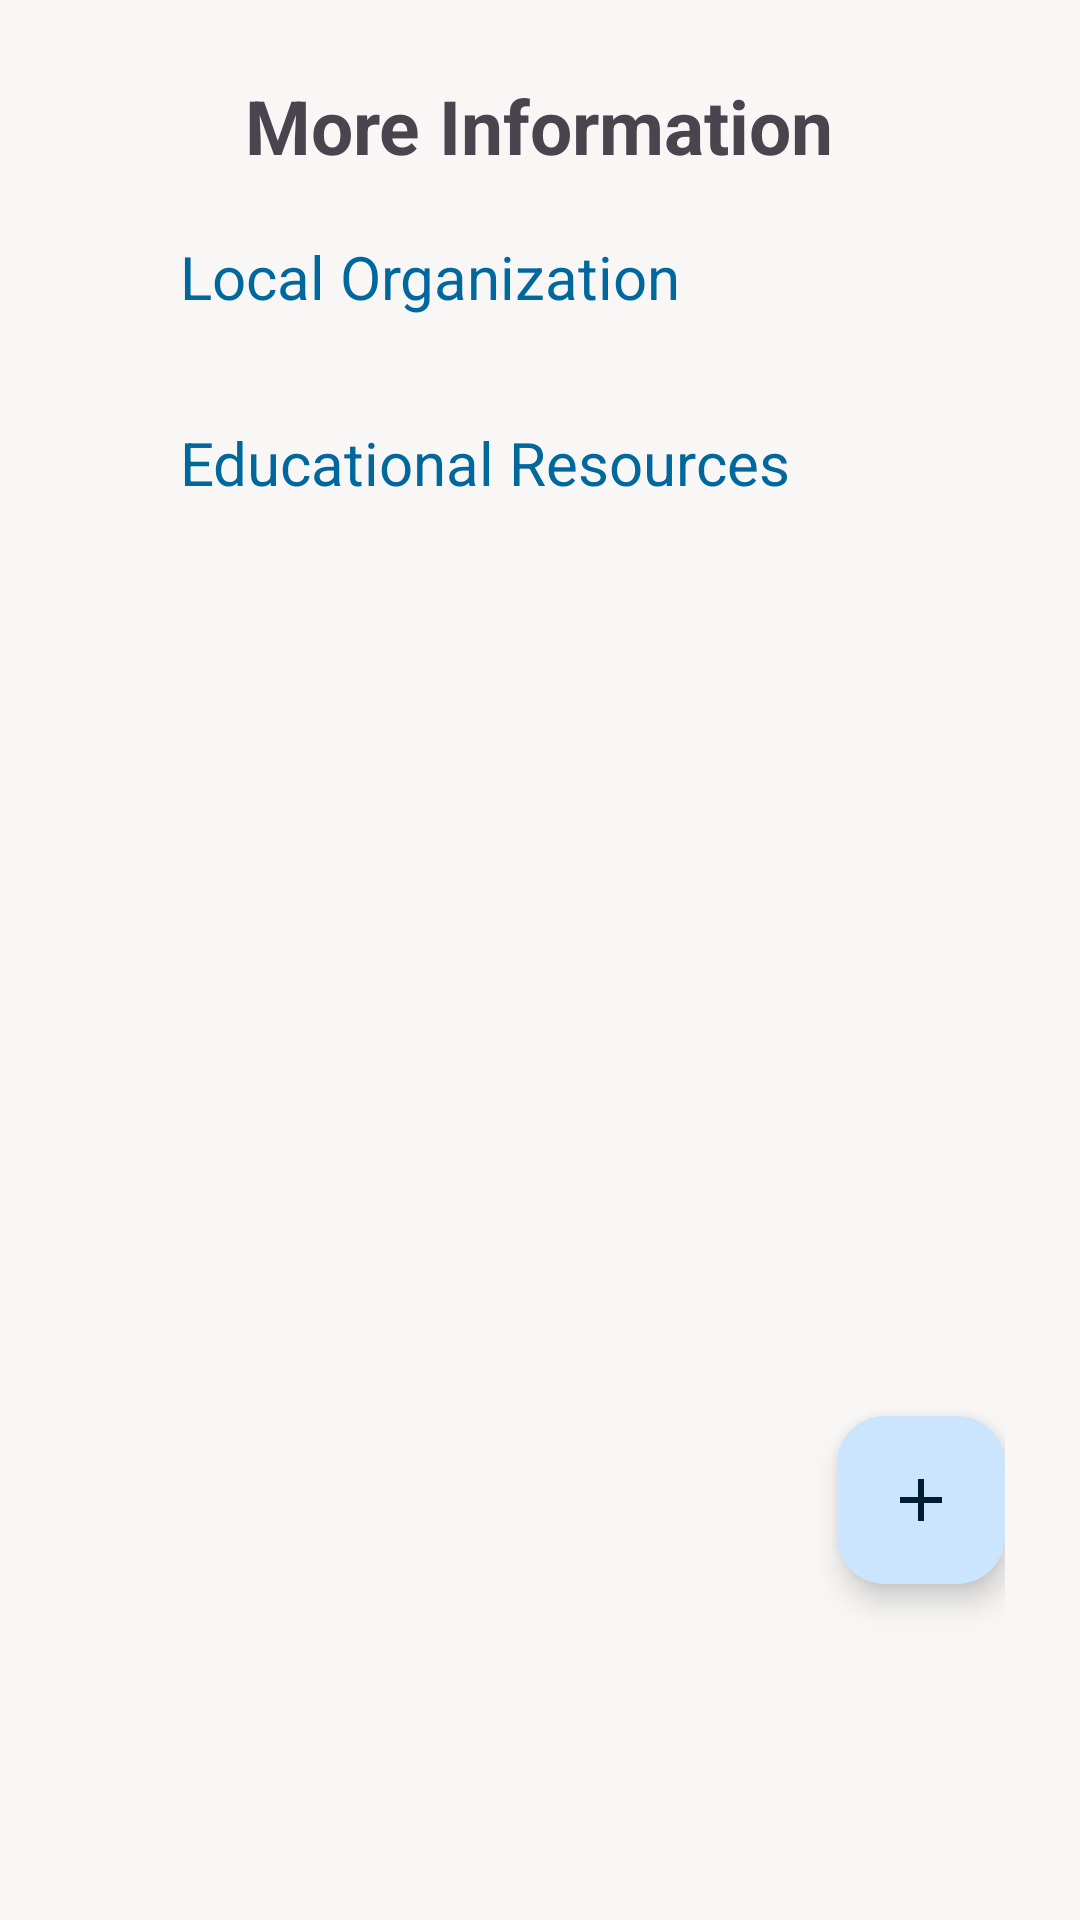

Icon click points for this 1080×1920 phone screenshot, format [x,y]:
Add Item: [921,1500]
